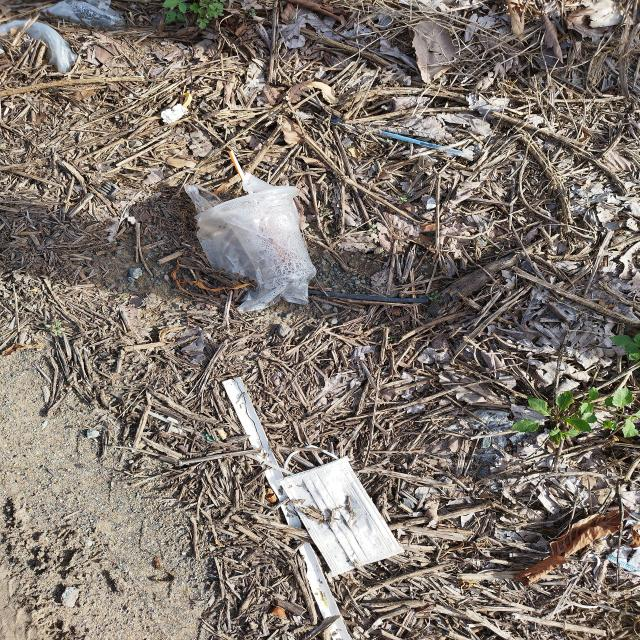mask: (277, 457, 406, 578)
trash bag: (184, 173, 317, 311)
